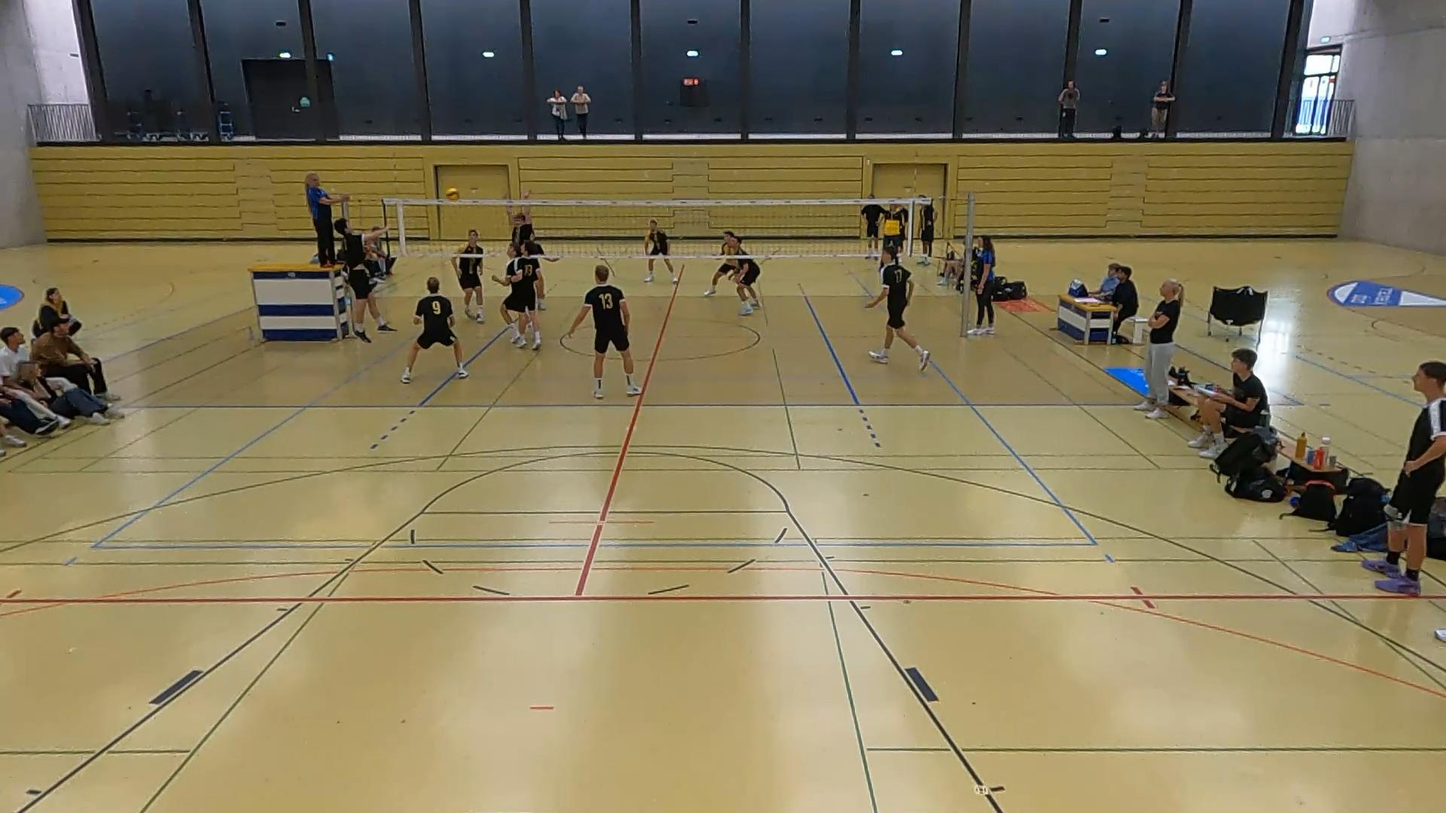Attack: (321, 212, 411, 350)
Block: (498, 189, 540, 263)
Player: (567, 264, 642, 398), (865, 246, 929, 370), (401, 277, 468, 383), (492, 244, 541, 349), (452, 230, 484, 323), (521, 239, 560, 310), (703, 230, 742, 296), (643, 219, 678, 284), (734, 245, 760, 315)
ball: (443, 184, 462, 206)
